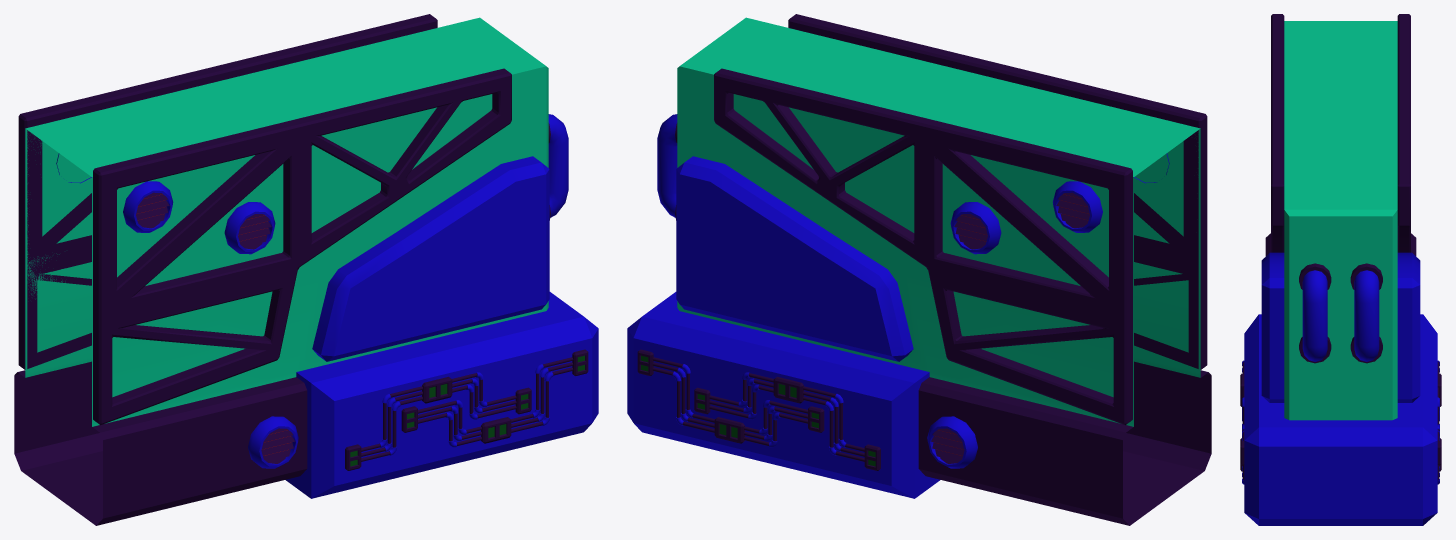
The model's file is OBJ_Corniche_mur.fbx.
3 views of the same model, side by side, from view 1: azimuth 30°, elevation 25°; view 2: azimuth 150°, elevation 25°; view 3: azimuth 270°, elevation 25° (orthographic). The views are drawn at different scales.
Parts seen in each view (by area): view 1: OBJ_Corniche_mur; view 2: OBJ_Corniche_mur; view 3: OBJ_Corniche_mur.
Part boxes in pixels (x1,y1,x2,y2): OBJ_Corniche_mur: [14, 14, 598, 525]; OBJ_Corniche_mur: [627, 14, 1211, 525]; OBJ_Corniche_mur: [1240, 14, 1441, 525].
Bounding box in the file's own units: 57.9 × 41.5 × 24.06.
